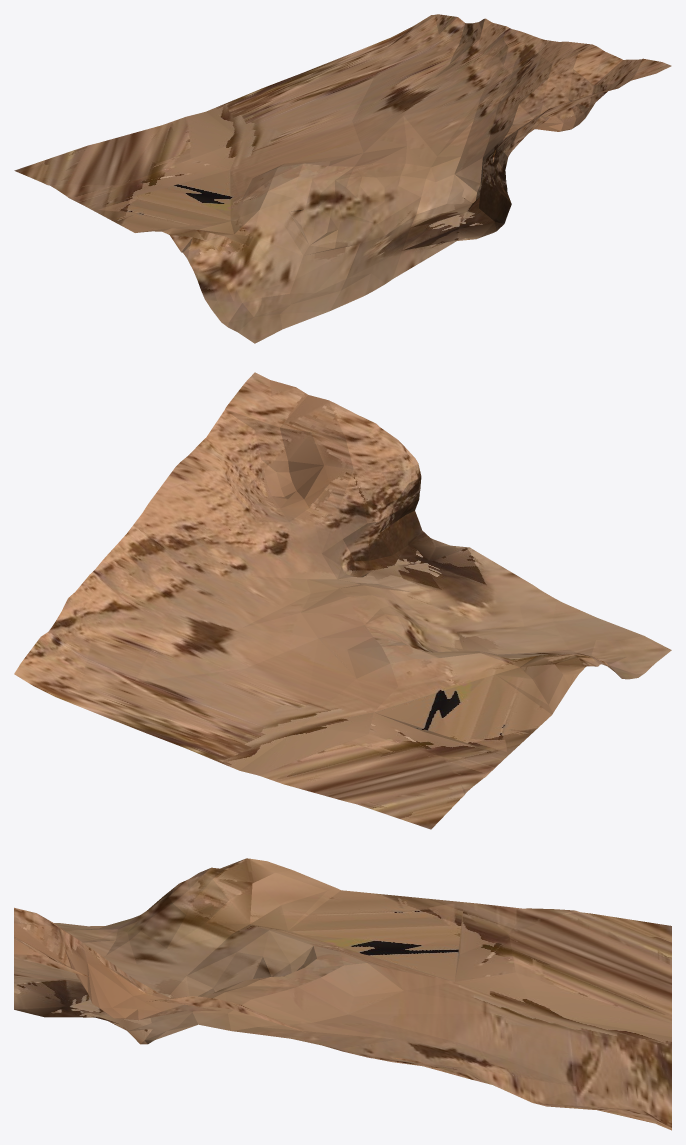
3 views of the same model, one above another, from view 1: azimuth 30°, elevation 25°; view 2: azimuth 150°, elevation 25°; view 3: azimuth 270°, elevation 25° (orthographic). The views are drawn at different scales.
Size of the model in its own units: 1.04 by 0.4294 by 1.04.
Materials: 3 (3 with a texture image).
